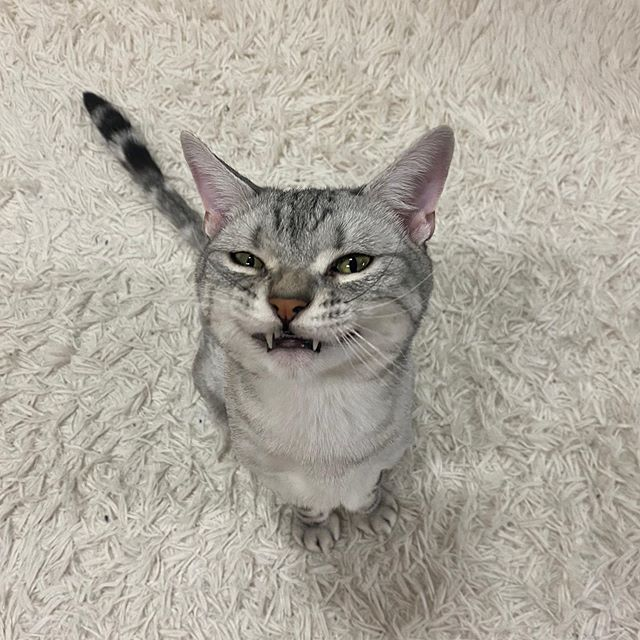cat: (179, 135, 453, 383)
